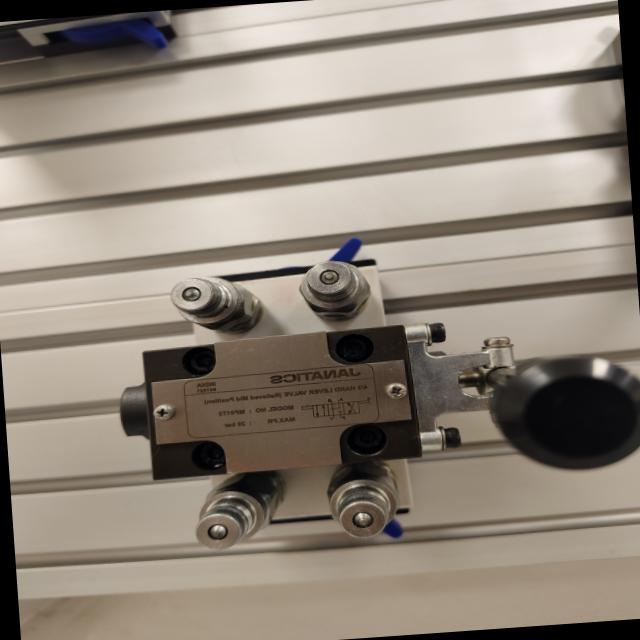4by3 hand lever valve: (101, 209, 640, 574)
